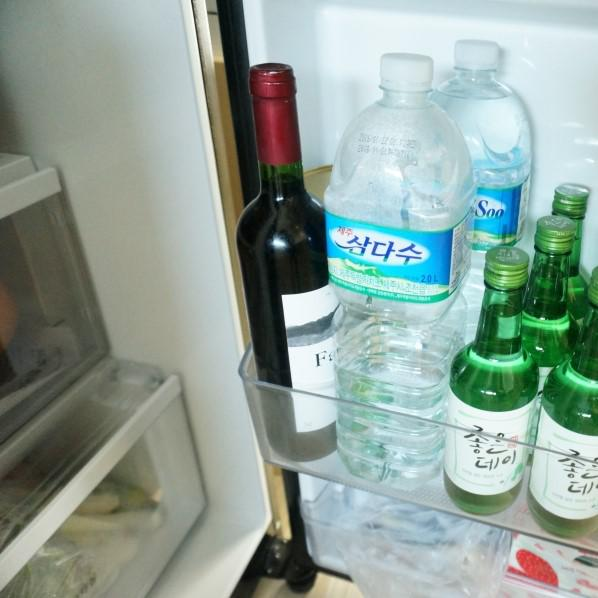soju: (443, 171, 598, 538)
